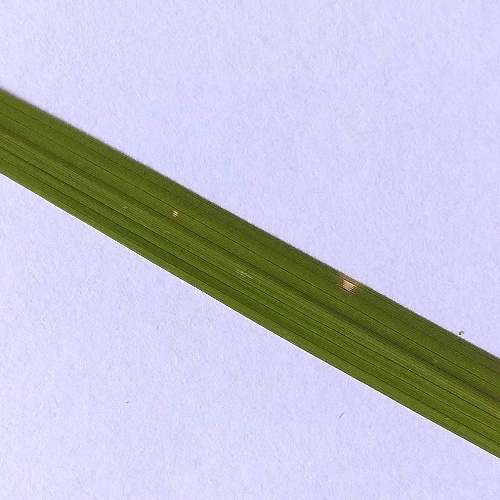Busuk Leher: (338, 268, 365, 298), (167, 201, 182, 224)
